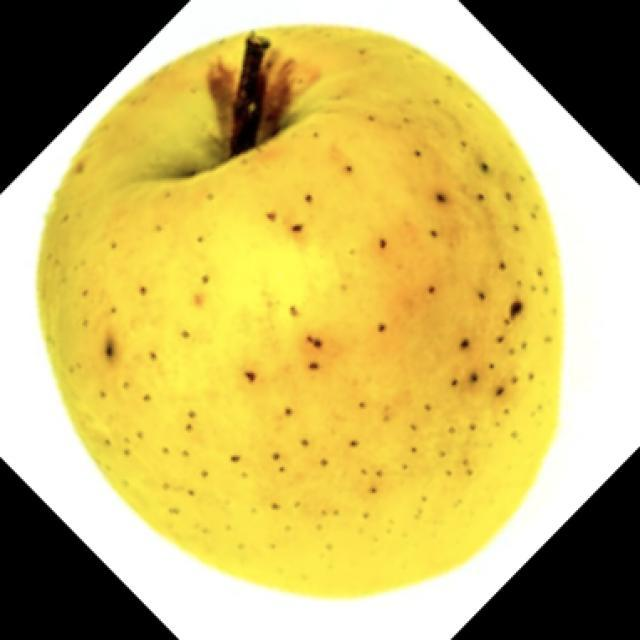Rotten: (67, 25, 558, 597)
